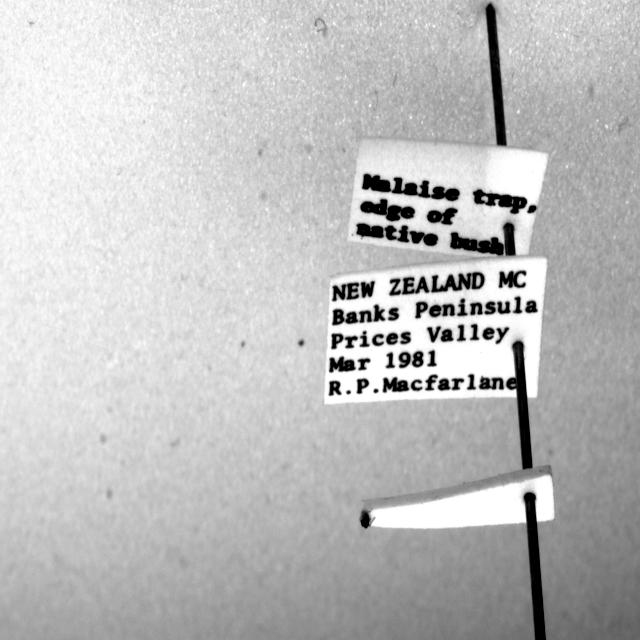typed_label: (325, 257, 548, 405), (349, 137, 549, 255)
